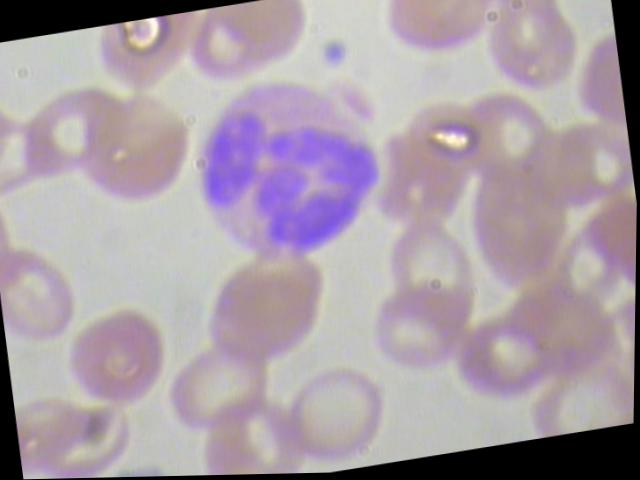Platelets: (317, 34, 357, 78)
Red Blood Cells: (200, 246, 345, 376), (463, 149, 586, 298), (67, 84, 201, 216), (368, 211, 488, 338), (277, 364, 401, 474), (57, 304, 179, 415), (360, 280, 482, 391), (160, 334, 280, 438), (179, 0, 317, 90), (479, 0, 583, 107), (189, 389, 315, 476), (82, 13, 202, 99), (379, 0, 503, 77), (0, 244, 82, 357)
White Blood Cells: (164, 64, 400, 287)
